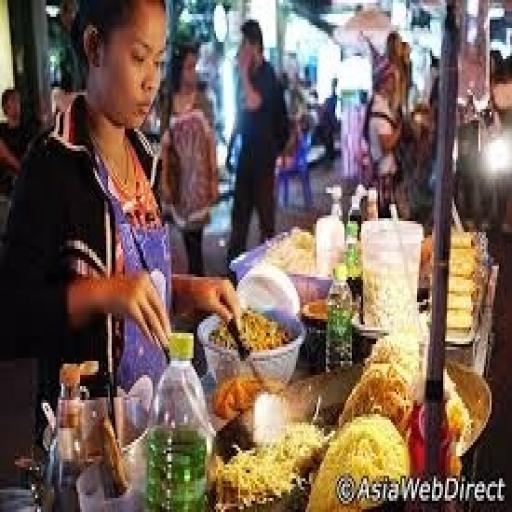eating: (4, 0, 244, 476)
